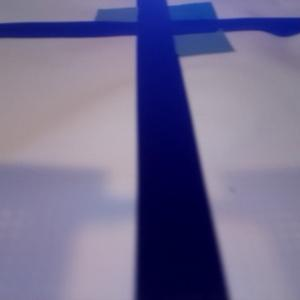bottom_right: (136, 21, 233, 55)
top_right: (138, 2, 218, 31), (96, 8, 168, 35)
